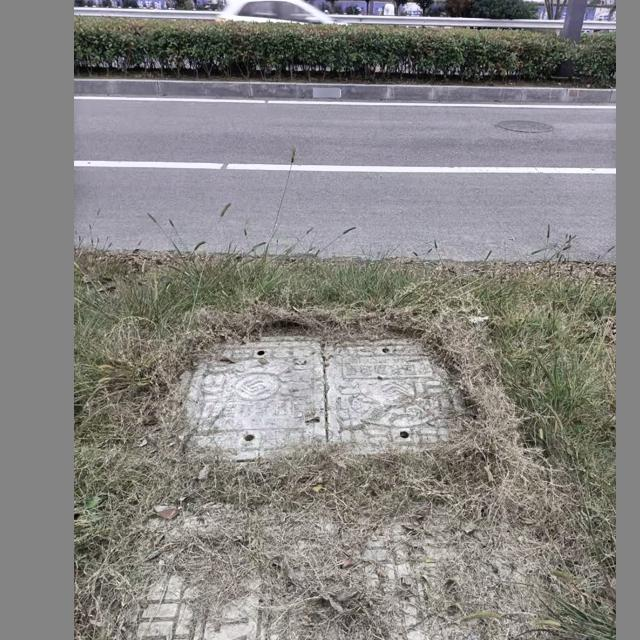good: (176, 335, 464, 457)
